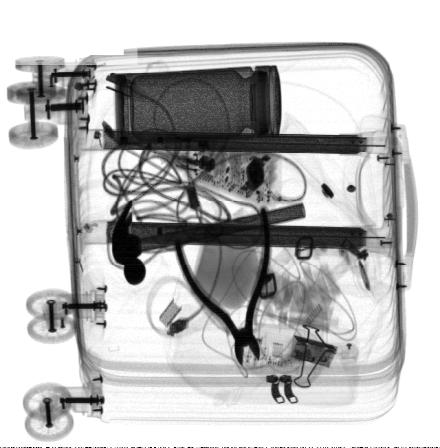Hammer: (111, 200, 306, 285)
Pliers: (173, 206, 273, 367)
